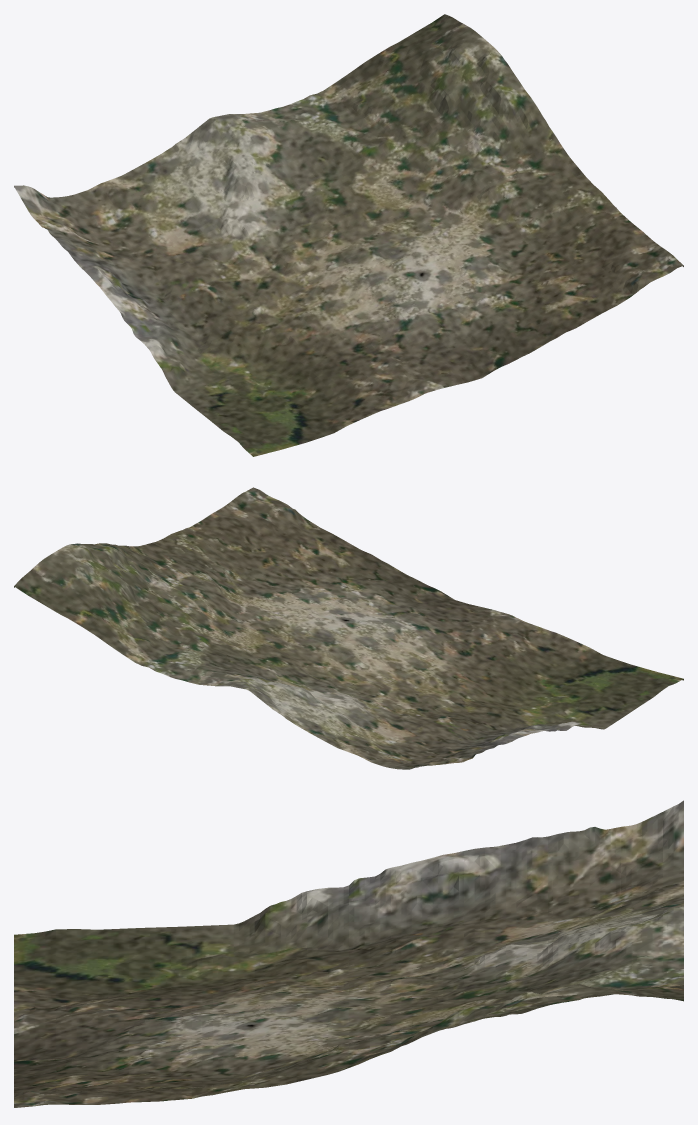
The picture shows the model from 3 angles, top to bottom: view 1: azimuth 30°, elevation 25°; view 2: azimuth 150°, elevation 25°; view 3: azimuth 270°, elevation 25°; orthographic projection. The views are drawn at different scales.
Bounding box in the file's own units: 250 × 94.24 × 241.
1 material, 1 textured.
